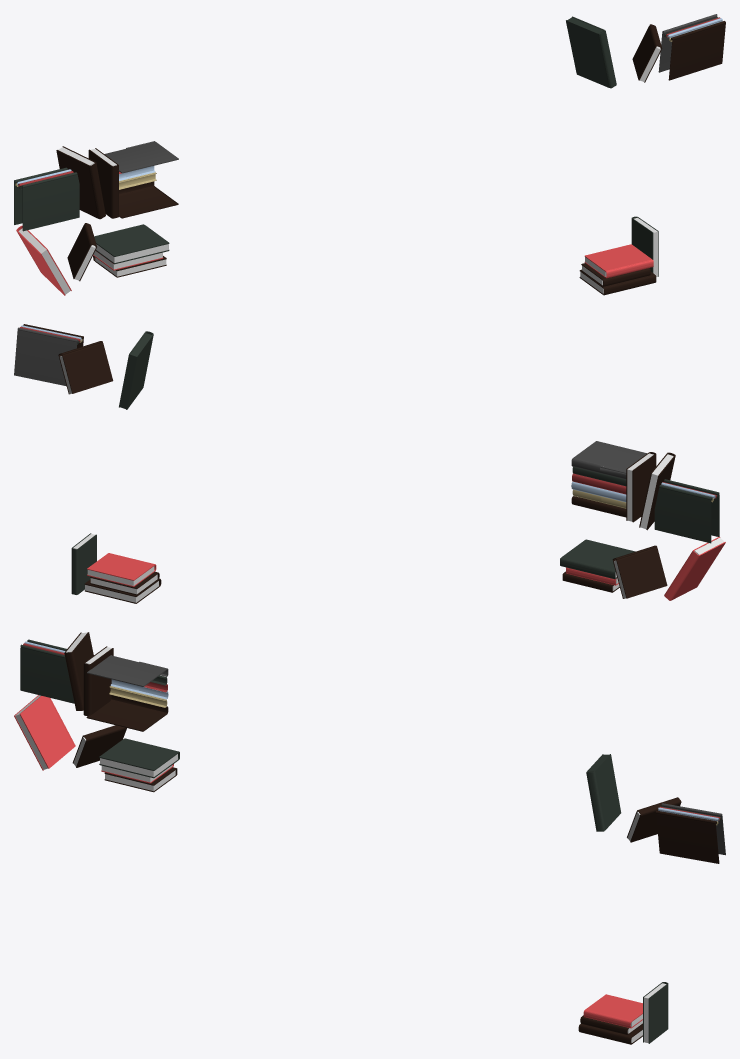
File: LivrosC.fbx
3 views of the same model, one above another, from view 1: azimuth 30°, elevation 25°; view 2: azimuth 150°, elevation 25°; view 3: azimuth 330°, elevation 25° (orthographic).
Visible parts, largest first — view 1: LivroPuzzle.006; view 2: LivroPuzzle.006; view 3: LivroPuzzle.006.
Part boxes in pixels (<box>): LivroPuzzle.006: <box>14,14,725,295</box>; LivroPuzzle.006: <box>14,324,725,603</box>; LivroPuzzle.006: <box>14,632,725,1044</box>.
Size of the model in its own units: 424 by 151 by 42.46.
